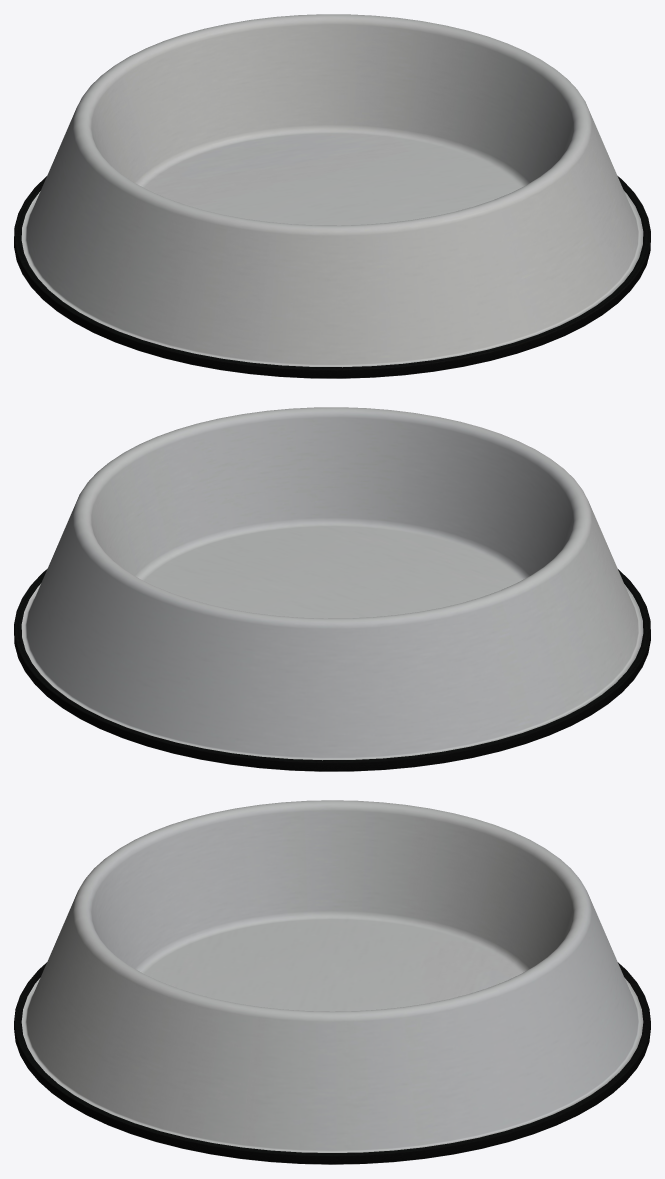
File: dog_bowl.glb
The picture shows the model from 3 angles, top to bottom: view 1: azimuth 30°, elevation 25°; view 2: azimuth 150°, elevation 25°; view 3: azimuth 270°, elevation 25°; orthographic projection.
Visible parts, largest first — view 1: DogBowl01; view 2: DogBowl01; view 3: DogBowl01.
Part boxes in pixels (left/top/right/bottom): DogBowl01: left=14, top=14, right=650, bottom=378; DogBowl01: left=14, top=407, right=650, bottom=771; DogBowl01: left=14, top=800, right=650, bottom=1164.
Size of the model in its own units: 2.34 by 0.5032 by 2.34.
1 material, 1 textured.
